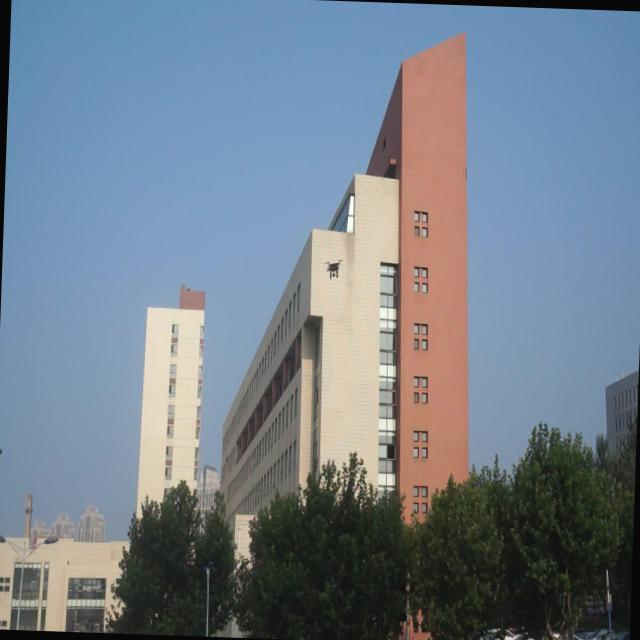drone: (325, 255, 344, 282)
